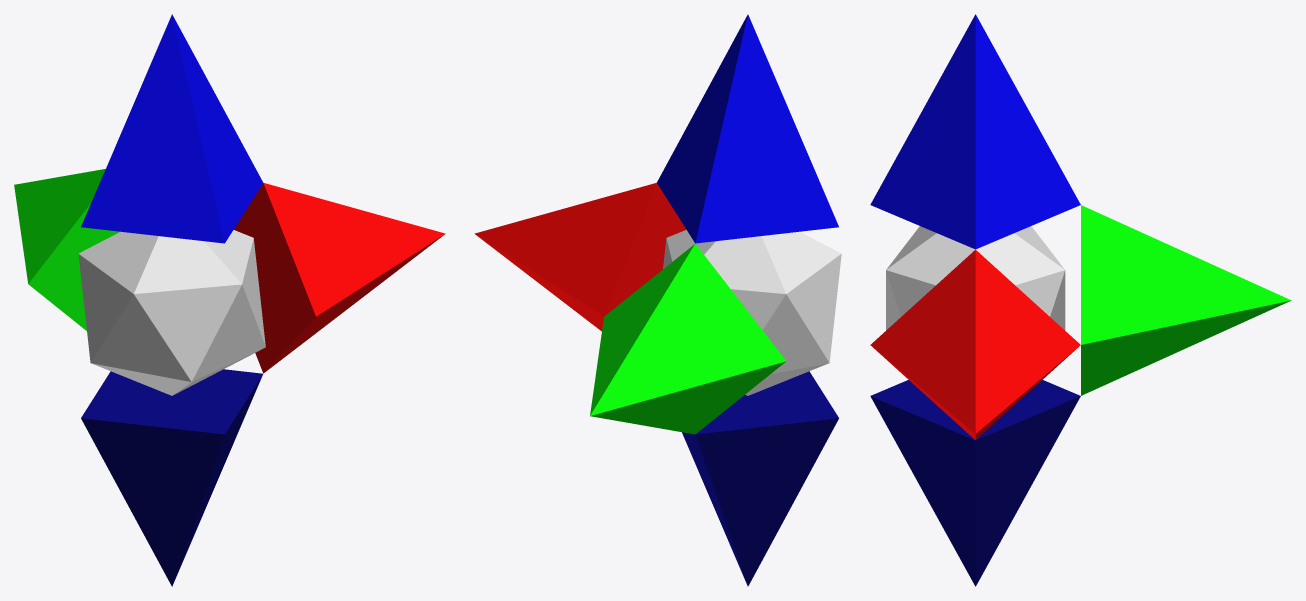
The model's file is axis_guide.fbx.
The picture shows the model from 3 angles, left to right: view 1: azimuth 30°, elevation 25°; view 2: azimuth 150°, elevation 25°; view 3: azimuth 270°, elevation 25°; orthographic projection.
Parts seen in each view (by area): view 1: Icosphere, Cone, Cone.003, Cone.001, Cone.002, Cone.005; view 2: Cone, Cone.003, Cone.001, Cone.005, Icosphere, Cone.002; view 3: Cone, Cone.001, Cone.002, Cone.003, Icosphere, Cone.005.
Boxes of the visible parts, x1,y1,x2,y2 form: Icosphere: [78, 230, 265, 395]; Cone: [81, 14, 263, 243]; Cone.003: [81, 369, 262, 586]; Cone.001: [233, 183, 445, 373]; Cone.002: [14, 176, 119, 330]; Cone.005: [22, 169, 105, 330]; Cone: [657, 14, 838, 243]; Cone.003: [682, 371, 838, 586]; Cone.001: [474, 183, 686, 331]; Cone.005: [590, 243, 786, 434]; Icosphere: [663, 230, 841, 395]; Cone.002: [590, 260, 753, 415]; Cone: [870, 14, 1080, 249]; Cone.001: [870, 249, 1080, 440]; Cone.002: [1081, 205, 1287, 395]; Cone.003: [870, 380, 1080, 586]; Icosphere: [886, 226, 1065, 330]; Cone.005: [1081, 205, 1291, 328].
Size of the model in its own units: 400 by 600 by 400.
